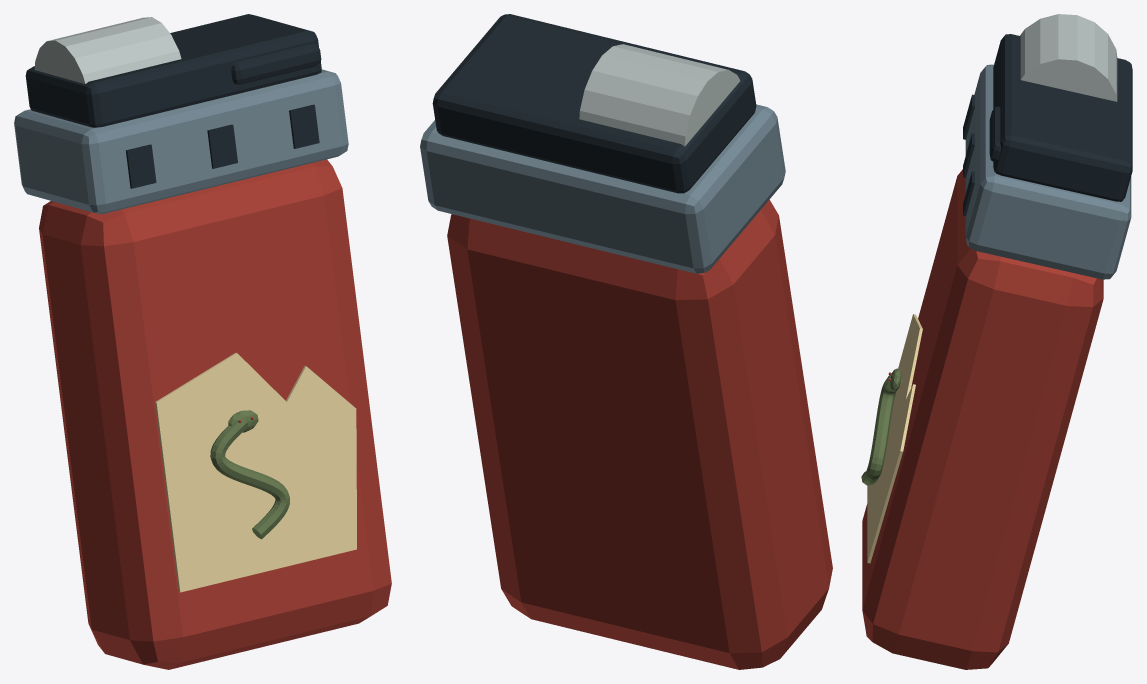
3 views of the same model, side by side, from view 1: azimuth 30°, elevation 25°; view 2: azimuth 150°, elevation 25°; view 3: azimuth 270°, elevation 25° (orthographic). The views are drawn at different scales.
Parts seen in each view (by area): view 1: C1-04_red, C1-04_paper, C1-04_steel, C1-04_ink, C1-04_edge, C1-04_green; view 2: C1-04_red, C1-04_steel, C1-04_ink, C1-04_edge; view 3: C1-04_red, C1-04_ink, C1-04_steel, C1-04_edge, C1-04_paper, C1-04_green.
Boxes of the visible parts, bbox=[...] form: C1-04_red: bbox=[39, 159, 391, 669]; C1-04_paper: bbox=[155, 353, 356, 592]; C1-04_steel: bbox=[14, 69, 348, 214]; C1-04_ink: bbox=[25, 14, 321, 188]; C1-04_edge: bbox=[34, 17, 181, 84]; C1-04_green: bbox=[210, 410, 289, 539]; C1-04_red: bbox=[447, 200, 832, 669]; C1-04_steel: bbox=[420, 104, 785, 273]; C1-04_ink: bbox=[432, 14, 756, 193]; C1-04_edge: bbox=[579, 44, 740, 146]; C1-04_red: bbox=[862, 169, 1103, 669]; C1-04_ink: bbox=[963, 34, 1132, 216]; C1-04_steel: bbox=[965, 64, 1131, 279]; C1-04_edge: bbox=[1020, 14, 1117, 101]; C1-04_paper: bbox=[867, 314, 922, 563]; C1-04_green: bbox=[861, 368, 902, 485].
Bounding box in the file's own units: 0.19 × 0.4077 × 0.1797.
